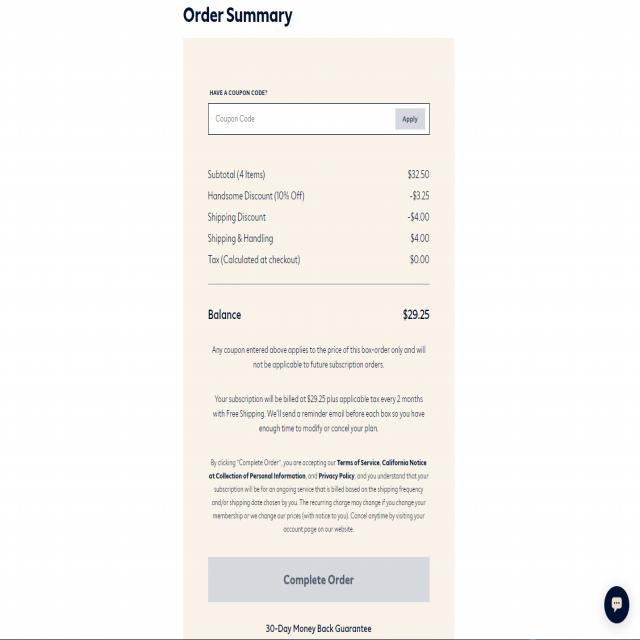sneaking: (201, 451, 432, 544), (208, 382, 430, 438)
